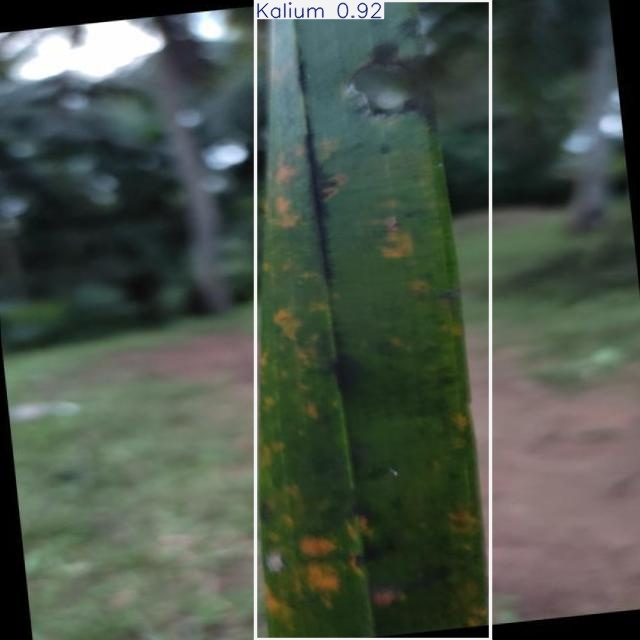Kalium: (256, 0, 490, 640)
